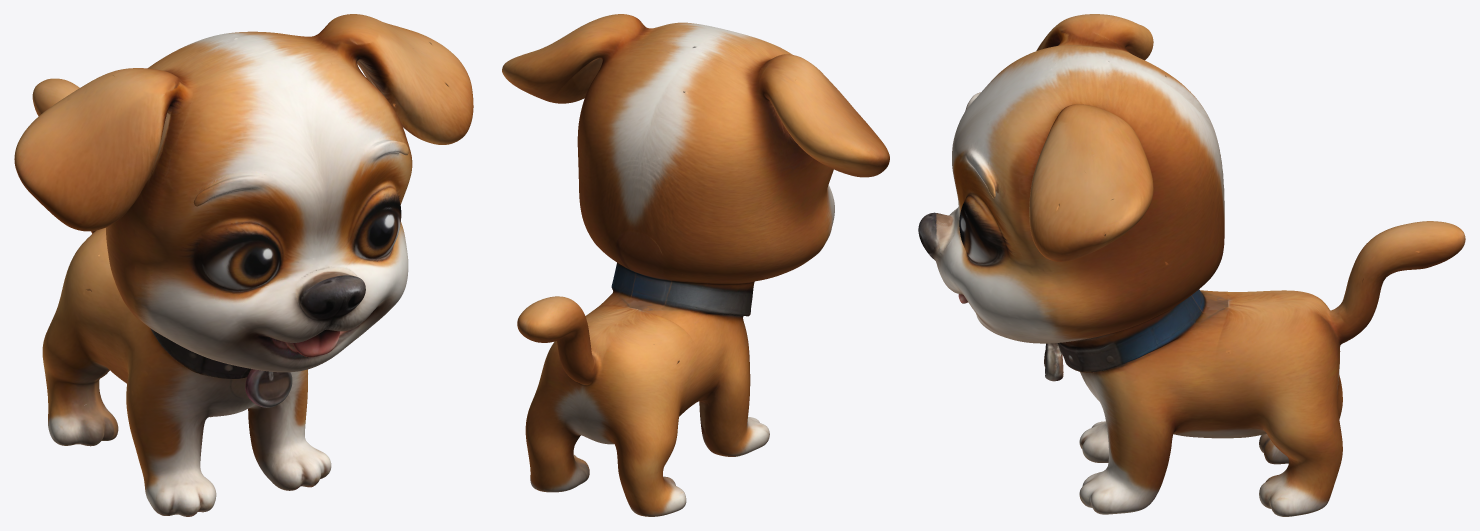
The model's file is dog.glb.
3 renders of one model, left to right at view 1: azimuth 30°, elevation 25°; view 2: azimuth 150°, elevation 25°; view 3: azimuth 270°, elevation 25°, orthographic. The views are drawn at different scales.
Bounding box in the file's own units: 1.71 × 1.7 × 2.
Materials: 1 (1 with a texture image).
